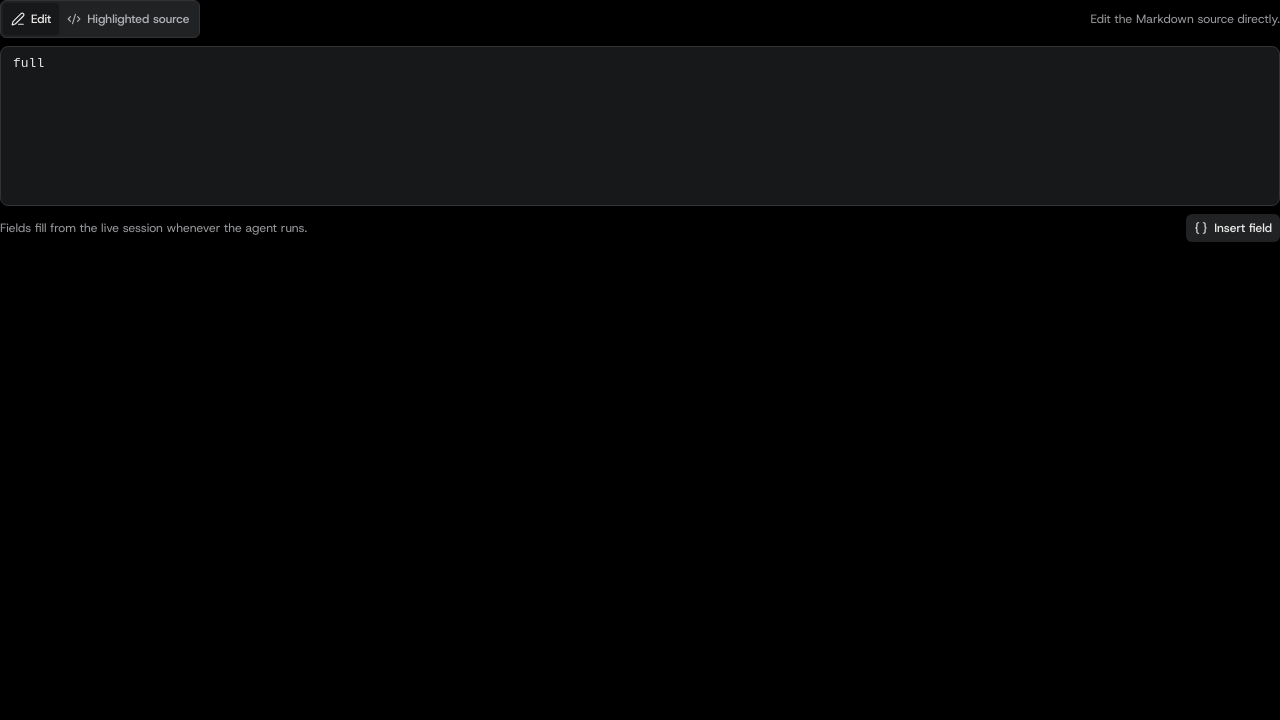
Test: instruction template source › does not let field insertion exceed the textarea limit
Click the button "Insert field" at (1233, 228), box [1186, 214, 1279, 242]
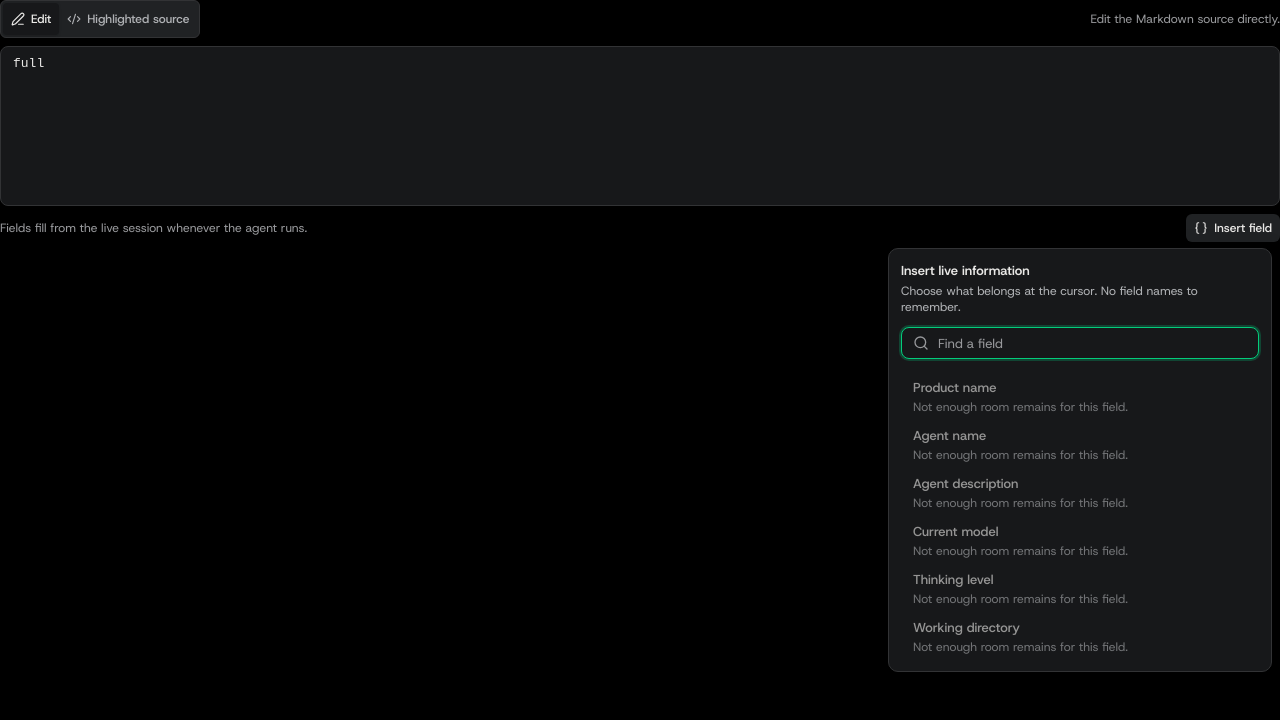
Expected: the text box named "Agent instructions" holds "full", [0, 46, 1279, 206]
Expected: the list item "Product name Not enough room remains for this field." is disabled, [901, 371, 1259, 415]
Expected: the list item "Product name Not enough room remains for this field." is shown, [901, 371, 1259, 415]
